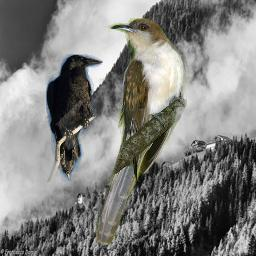Crow: (46, 54, 103, 182)
Cuckoo: (95, 18, 187, 245)
